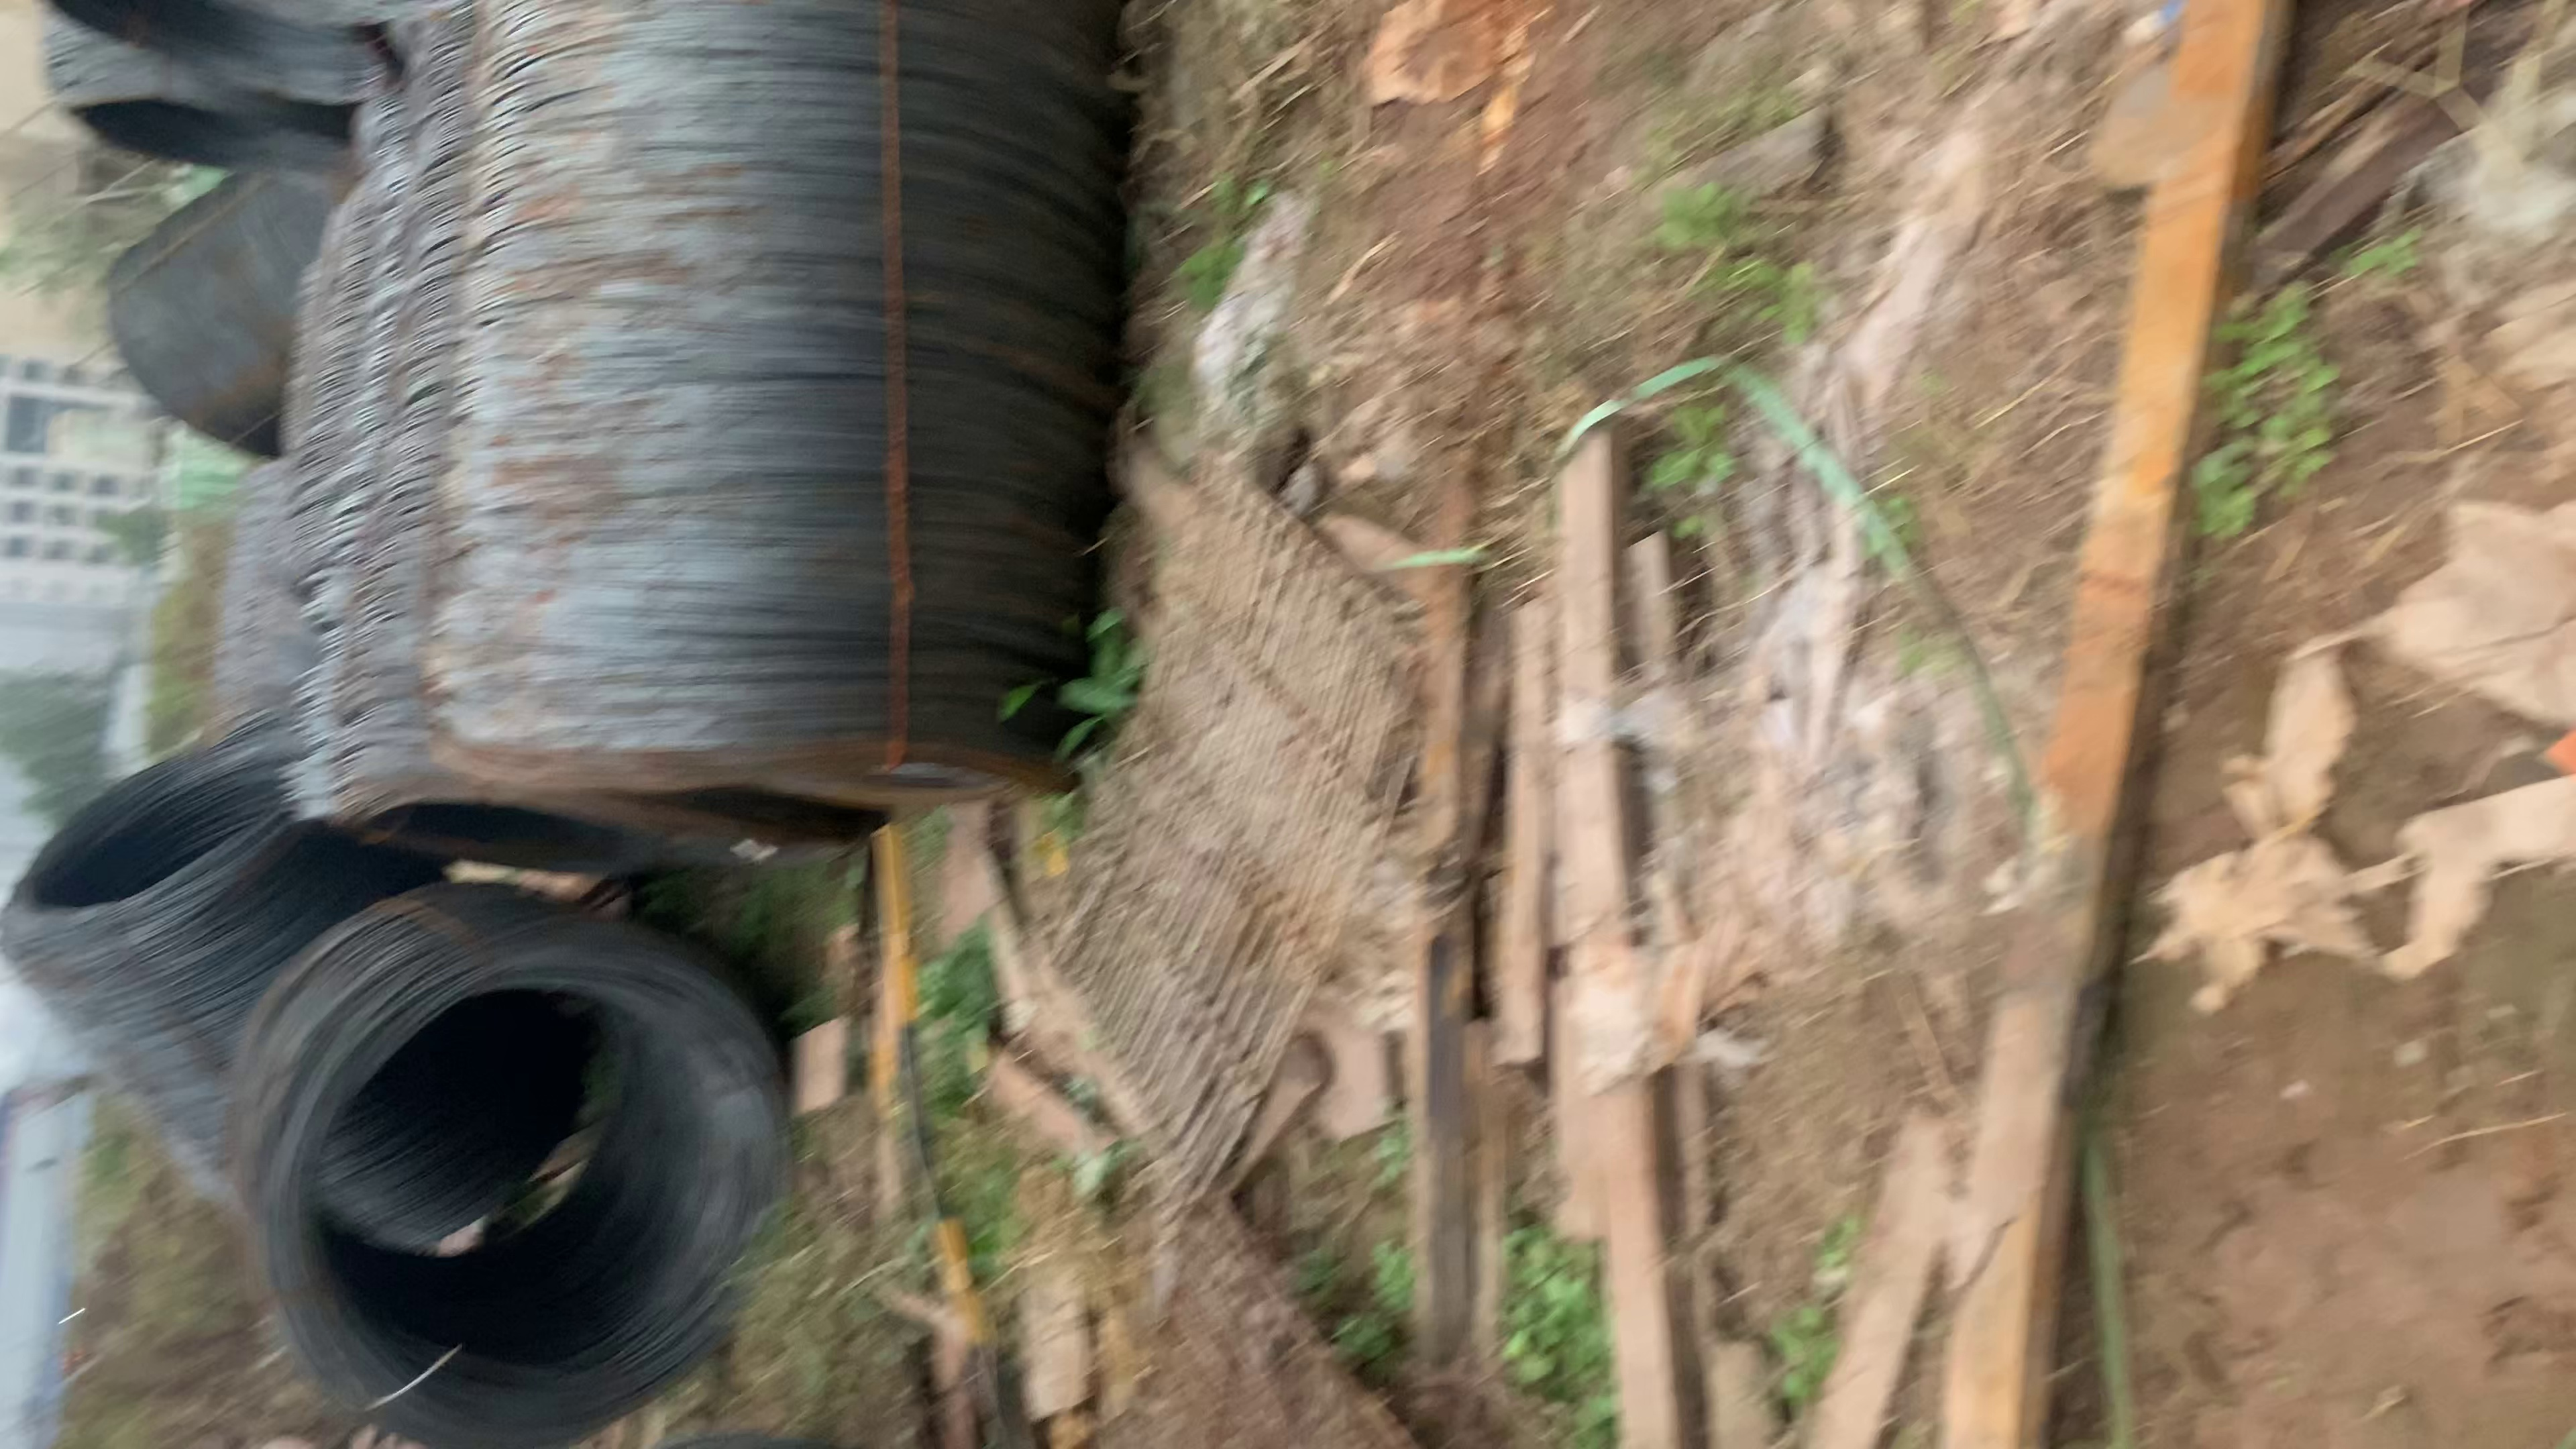coil: (244, 957, 810, 1426), (483, 718, 1097, 840), (0, 694, 301, 927), (308, 778, 844, 908), (28, 78, 338, 186)
